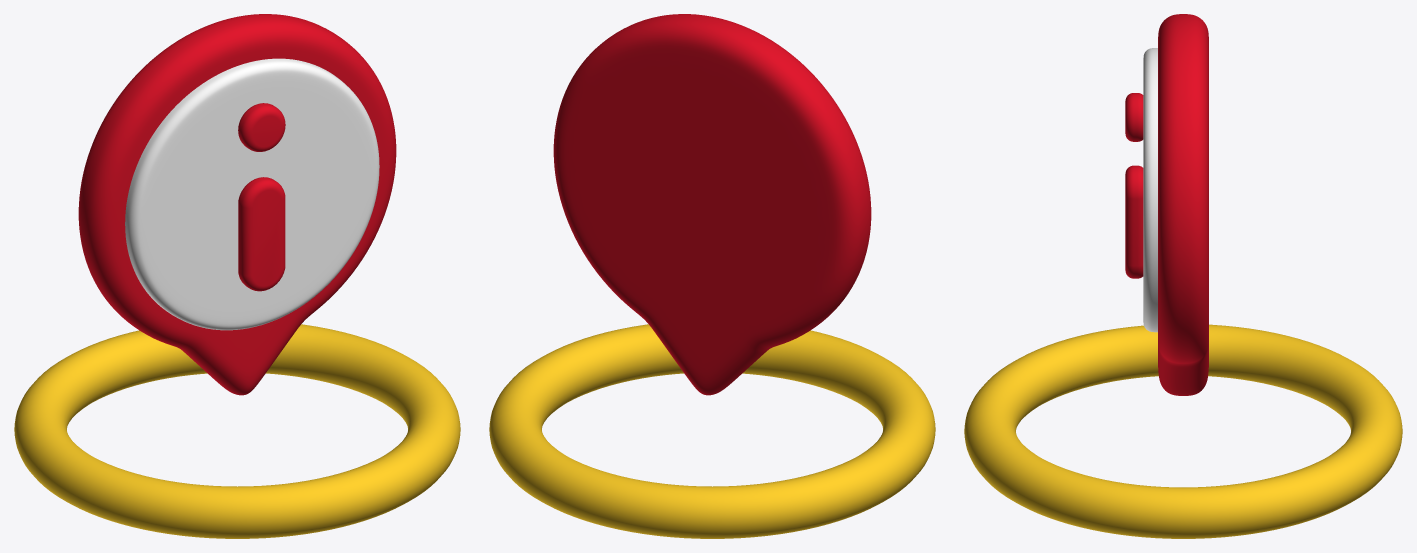
Rendered from iconInfo.glb.
3 views of the same model, side by side, from view 1: azimuth 30°, elevation 25°; view 2: azimuth 150°, elevation 25°; view 3: azimuth 270°, elevation 25° (orthographic).
Parts seen in each view (by area): view 1: Cylinder.011, Torus.008, Circle.009, Cylinder.012, Cylinder.013; view 2: Circle.009, Torus.008; view 3: Torus.008, Circle.009, Cylinder.011, Cylinder.012, Cylinder.013.
Boxes of the visible parts, bbox=[...] form: Cylinder.011: bbox=[125, 58, 379, 330]; Torus.008: bbox=[14, 324, 460, 538]; Circle.009: bbox=[78, 14, 396, 395]; Cylinder.012: bbox=[238, 177, 285, 291]; Cylinder.013: bbox=[238, 103, 285, 151]; Circle.009: bbox=[553, 14, 871, 395]; Torus.008: bbox=[489, 324, 935, 538]; Torus.008: bbox=[964, 324, 1402, 538]; Circle.009: bbox=[1158, 14, 1208, 395]; Cylinder.011: bbox=[1143, 48, 1157, 332]; Cylinder.012: bbox=[1125, 165, 1143, 278]; Cylinder.013: bbox=[1125, 93, 1143, 141].
Bounding box in the file's own units: 4.29 × 4.59 × 4.29.
